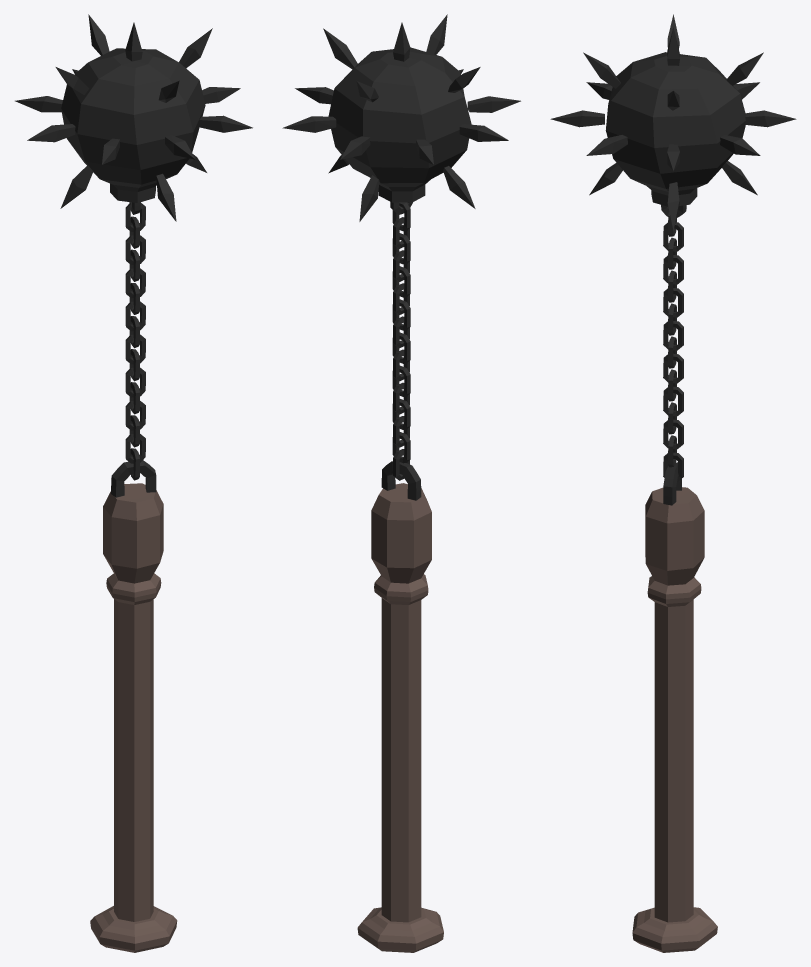
Rendered from morgenstern.fbx.
3 views of the same model, side by side, from view 1: azimuth 30°, elevation 25°; view 2: azimuth 150°, elevation 25°; view 3: azimuth 270°, elevation 25° (orthographic).
Parts seen in each view (by area): view 1: morgenstern, morgenstern_weapon, morgenstern_chain; view 2: morgenstern, morgenstern_weapon, morgenstern_chain; view 3: morgenstern, morgenstern_weapon, morgenstern_chain.
Part boxes in pixels (<box>): morgenstern: <box>90,460,177,952</box>; morgenstern_weapon: <box>15,14,252,221</box>; morgenstern_chain: <box>125,202,145,480</box>; morgenstern: <box>357,461,443,952</box>; morgenstern_weapon: <box>282,14,520,221</box>; morgenstern_chain: <box>392,202,410,480</box>; morgenstern: <box>632,462,717,952</box>; morgenstern_weapon: <box>550,14,796,230</box>; morgenstern_chain: <box>663,212,683,482</box>.
Size of the model in its own units: 41.78 by 171 by 41.78.
